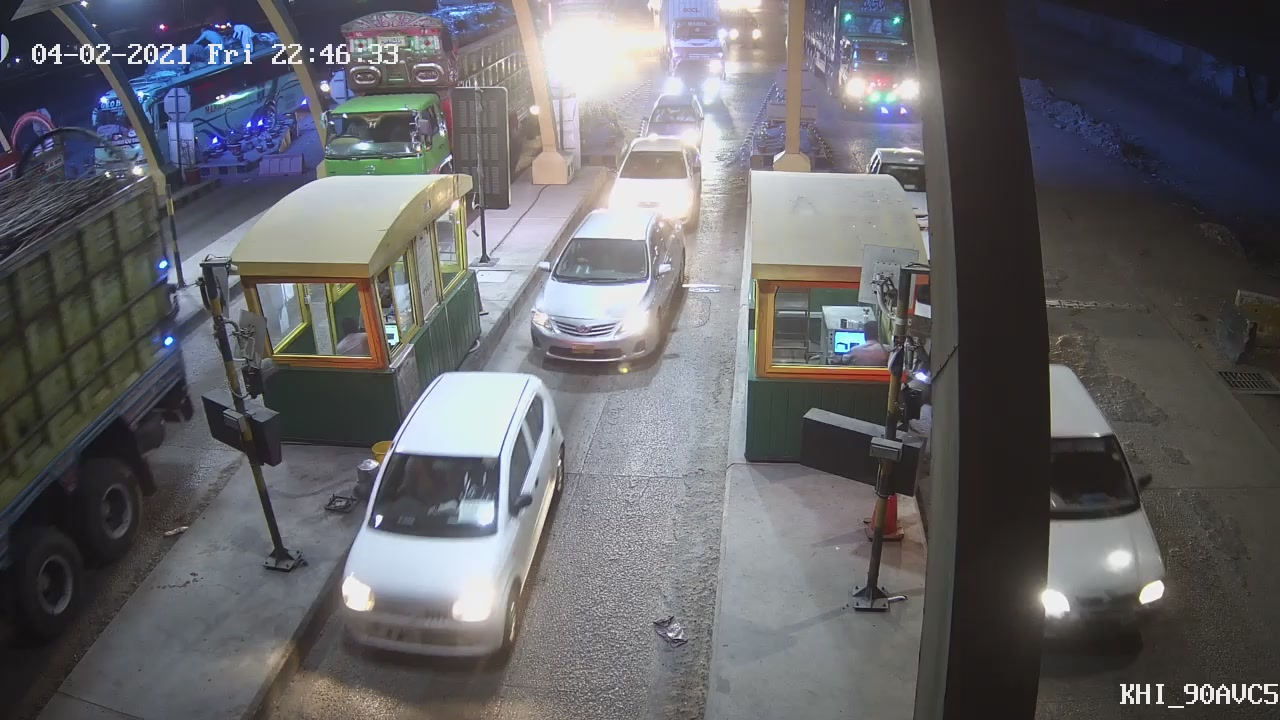F1: (330, 370, 569, 659), (525, 206, 688, 365)
